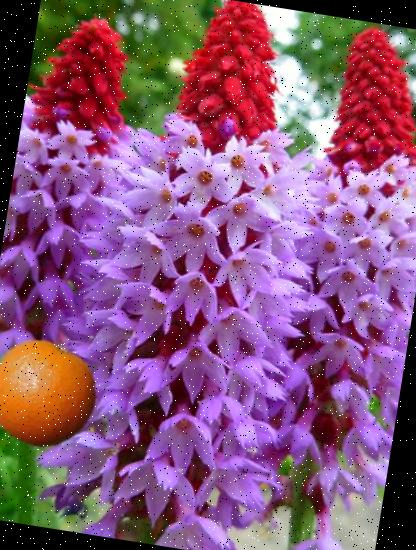Orange: (0, 332, 105, 457)
